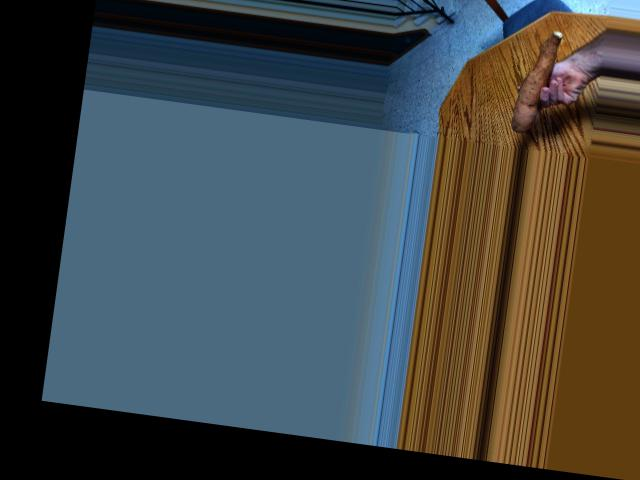sweet_potato: (505, 27, 569, 134)
